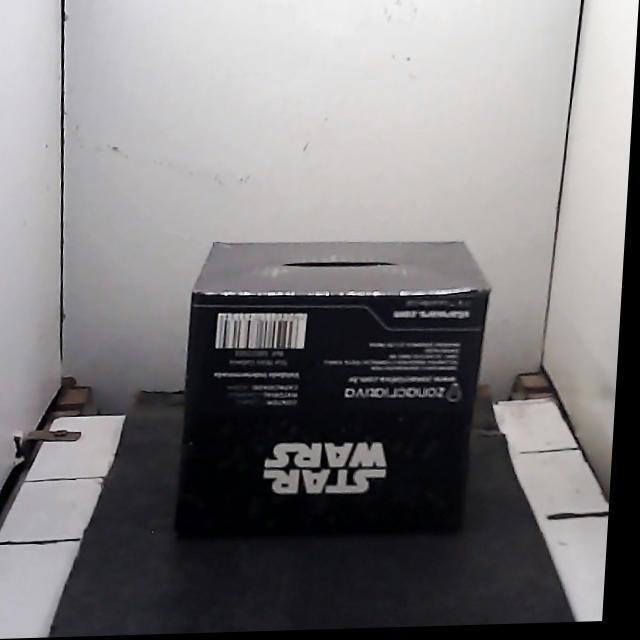papel: (175, 242, 489, 536)
